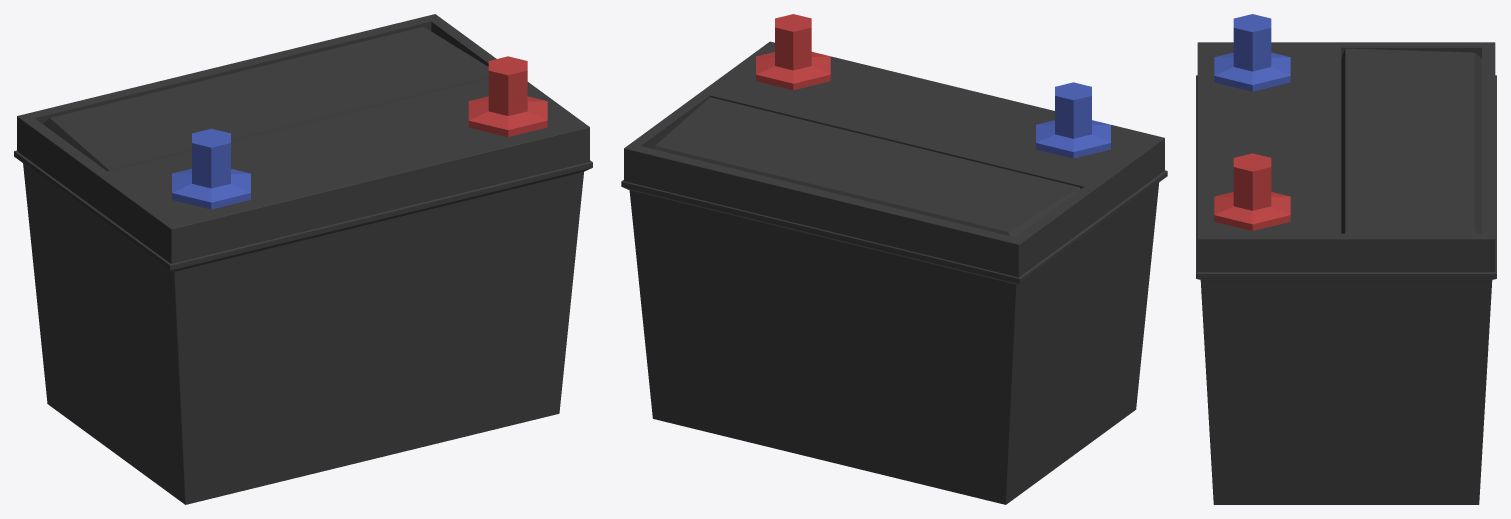
File: Battery.fbx
The picture shows the model from 3 angles, left to right: view 1: azimuth 30°, elevation 25°; view 2: azimuth 150°, elevation 25°; view 3: azimuth 270°, elevation 25°; orthographic projection. The views are drawn at different scales.
Visible parts, largest first — view 1: pCylinder5, pCylinder1, pCylinder2; view 2: pCylinder5, pCylinder2, pCylinder1; view 3: pCylinder5, pCylinder1, pCylinder2.
Boxes of the visible parts, left/top/right/bottom form: pCylinder5: left=14, top=14, right=592, bottom=504; pCylinder1: left=468, top=56, right=547, bottom=136; pCylinder2: left=172, top=128, right=250, bottom=209; pCylinder5: left=621, top=41, right=1167, bottom=504; pCylinder2: left=1036, top=82, right=1110, bottom=158; pCylinder1: left=756, top=14, right=830, bottom=90; pCylinder5: left=1196, top=42, right=1496, bottom=504; pCylinder1: left=1214, top=153, right=1290, bottom=230; pCylinder2: left=1214, top=14, right=1290, bottom=91.
Size of the model in its own units: 5.07 by 3.9 by 3.24.
